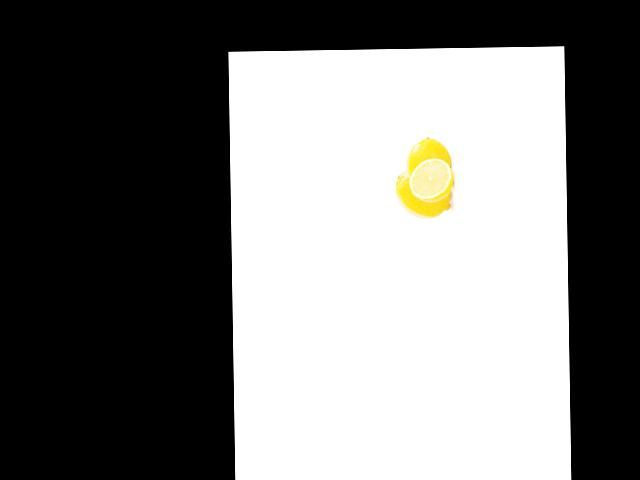lemon: (405, 138, 453, 189)
